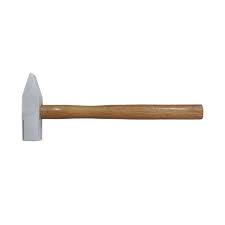hammer: (21, 72, 204, 142)
